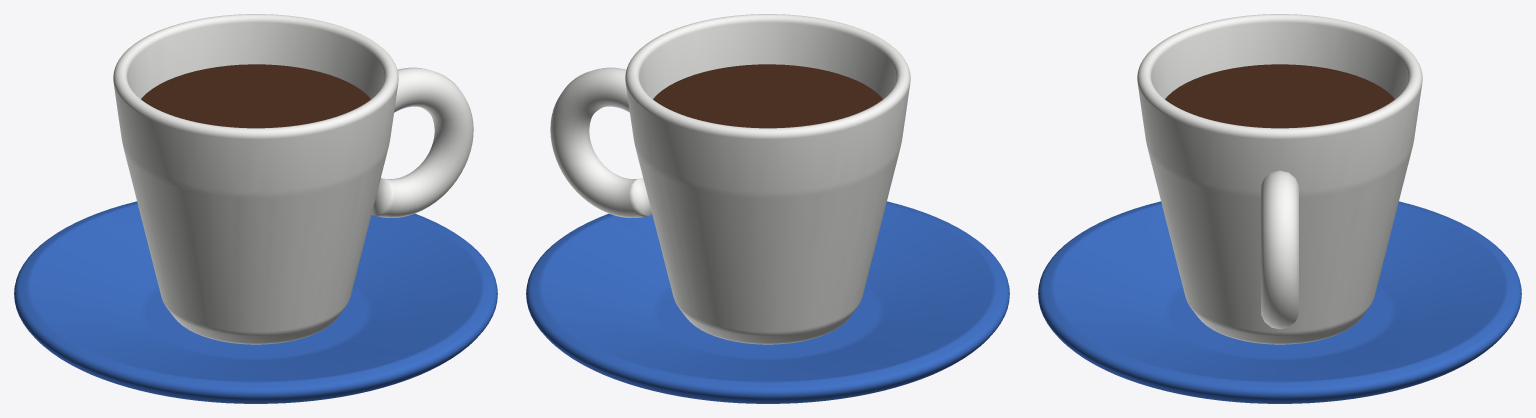
Rendered from coffee-cup.glb.
3 views of the same model, side by side, from view 1: azimuth 30°, elevation 25°; view 2: azimuth 150°, elevation 25°; view 3: azimuth 270°, elevation 25° (orthographic).
Parts seen in each view (by area): view 1: cup, saucer, coffee, cup_handle; view 2: cup, saucer, coffee, cup_handle; view 3: cup, saucer, coffee, cup_handle.
Part boxes in pixels (x1,y1,x2,y2): cup: [113, 14, 398, 344]; saucer: [14, 201, 497, 403]; coffee: [141, 64, 370, 128]; cup_handle: [371, 67, 473, 217]; cup: [625, 14, 910, 344]; saucer: [526, 201, 1009, 403]; coffee: [653, 64, 882, 128]; cup_handle: [550, 67, 652, 217]; cup: [1137, 14, 1422, 344]; saucer: [1038, 201, 1521, 403]; coffee: [1165, 64, 1394, 128]; cup_handle: [1261, 170, 1298, 329].
Bounding box in the file's own units: 0.1553 × 0.0933 × 0.1533.
